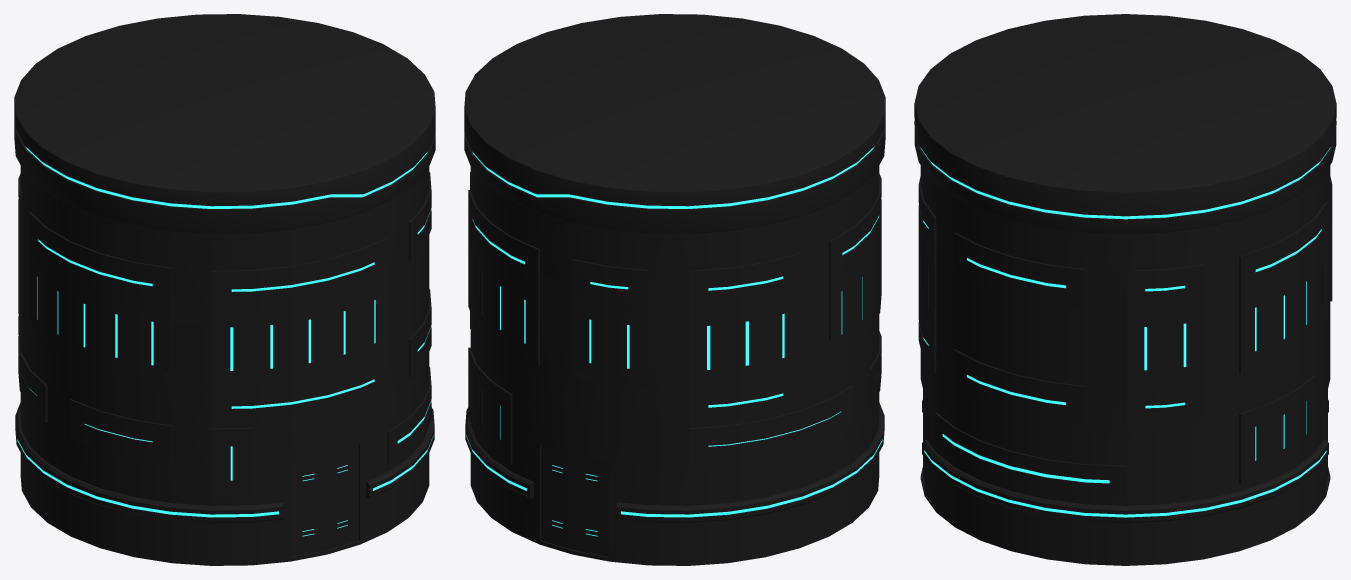
Rendered from Building4.glb.
The picture shows the model from 3 angles, left to right: view 1: azimuth 30°, elevation 25°; view 2: azimuth 150°, elevation 25°; view 3: azimuth 270°, elevation 25°; orthographic projection.
Parts seen in each view (by area): view 1: Core, Door2; view 2: Core, Door1; view 3: Core.
Part boxes in pixels (x1,y1,x2,y2): Core: (14, 14, 435, 565); Door2: (291, 445, 358, 556); Core: (464, 14, 885, 565); Door1: (541, 445, 608, 556); Core: (914, 14, 1336, 565).
Size of the model in its own units: 15.46 by 15.22 by 15.46.
